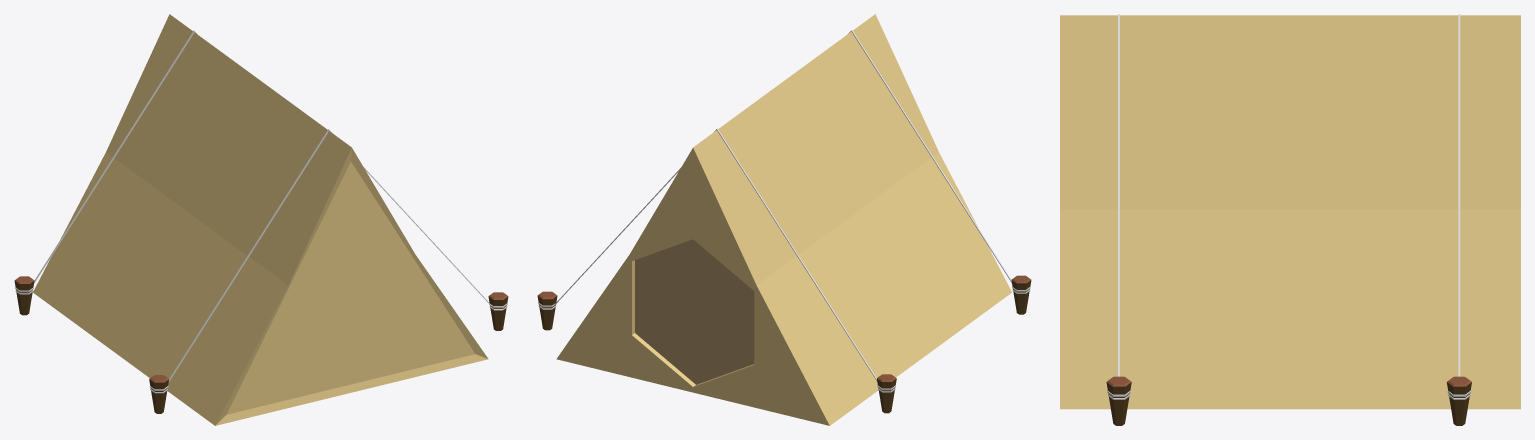
Rendered from Camp.fbx.
3 views of the same model, side by side, from view 1: azimuth 30°, elevation 25°; view 2: azimuth 150°, elevation 25°; view 3: azimuth 270°, elevation 25° (orthographic). The views are drawn at different scales.
Visible parts, largest first — view 1: Cylinder, Cylinder.001; view 2: Cylinder, Cylinder.001; view 3: Cylinder, Cylinder.001.
Part boxes in pixels (x1=…): Cylinder: x1=33, y1=14, x2=488, y2=425; Cylinder.001: x1=14, y1=30, x2=508, y2=413; Cylinder: x1=556, y1=14, x2=1011, y2=425; Cylinder.001: x1=537, y1=30, x2=1031, y2=413; Cylinder: x1=1060, y1=15, x2=1520, y2=409; Cylinder.001: x1=1106, y1=14, x2=1471, y2=425.
Bounding box in the file's own units: 224 × 149 × 200.
